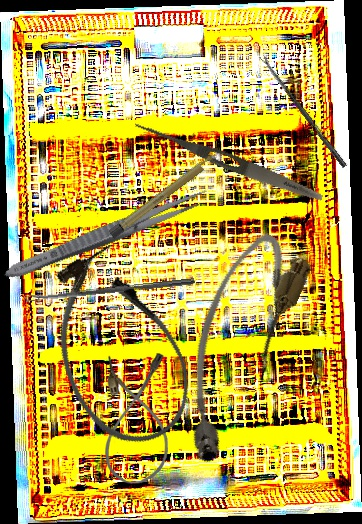Cannula: (27, 234, 208, 462), (152, 224, 318, 471), (105, 353, 168, 484)
Dressing Forceps: (0, 183, 212, 286), (130, 117, 326, 206)
Scalpel Handle: (108, 151, 220, 239)
Surgical Spoon: (259, 53, 348, 169), (25, 277, 195, 302)
